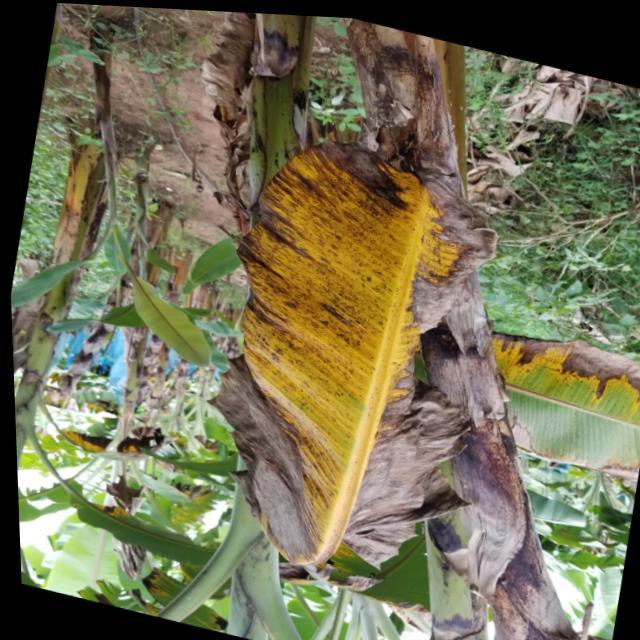Early_rust: (215, 105, 477, 607), (462, 298, 640, 448), (46, 401, 194, 482), (78, 486, 194, 540)
